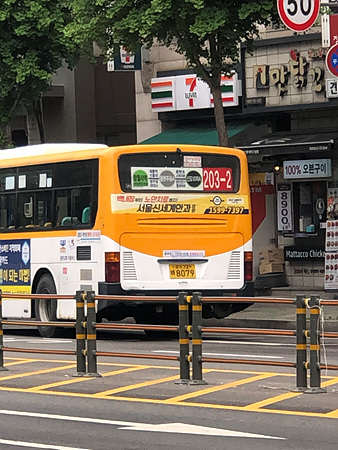bnum: (202, 167, 232, 188)
